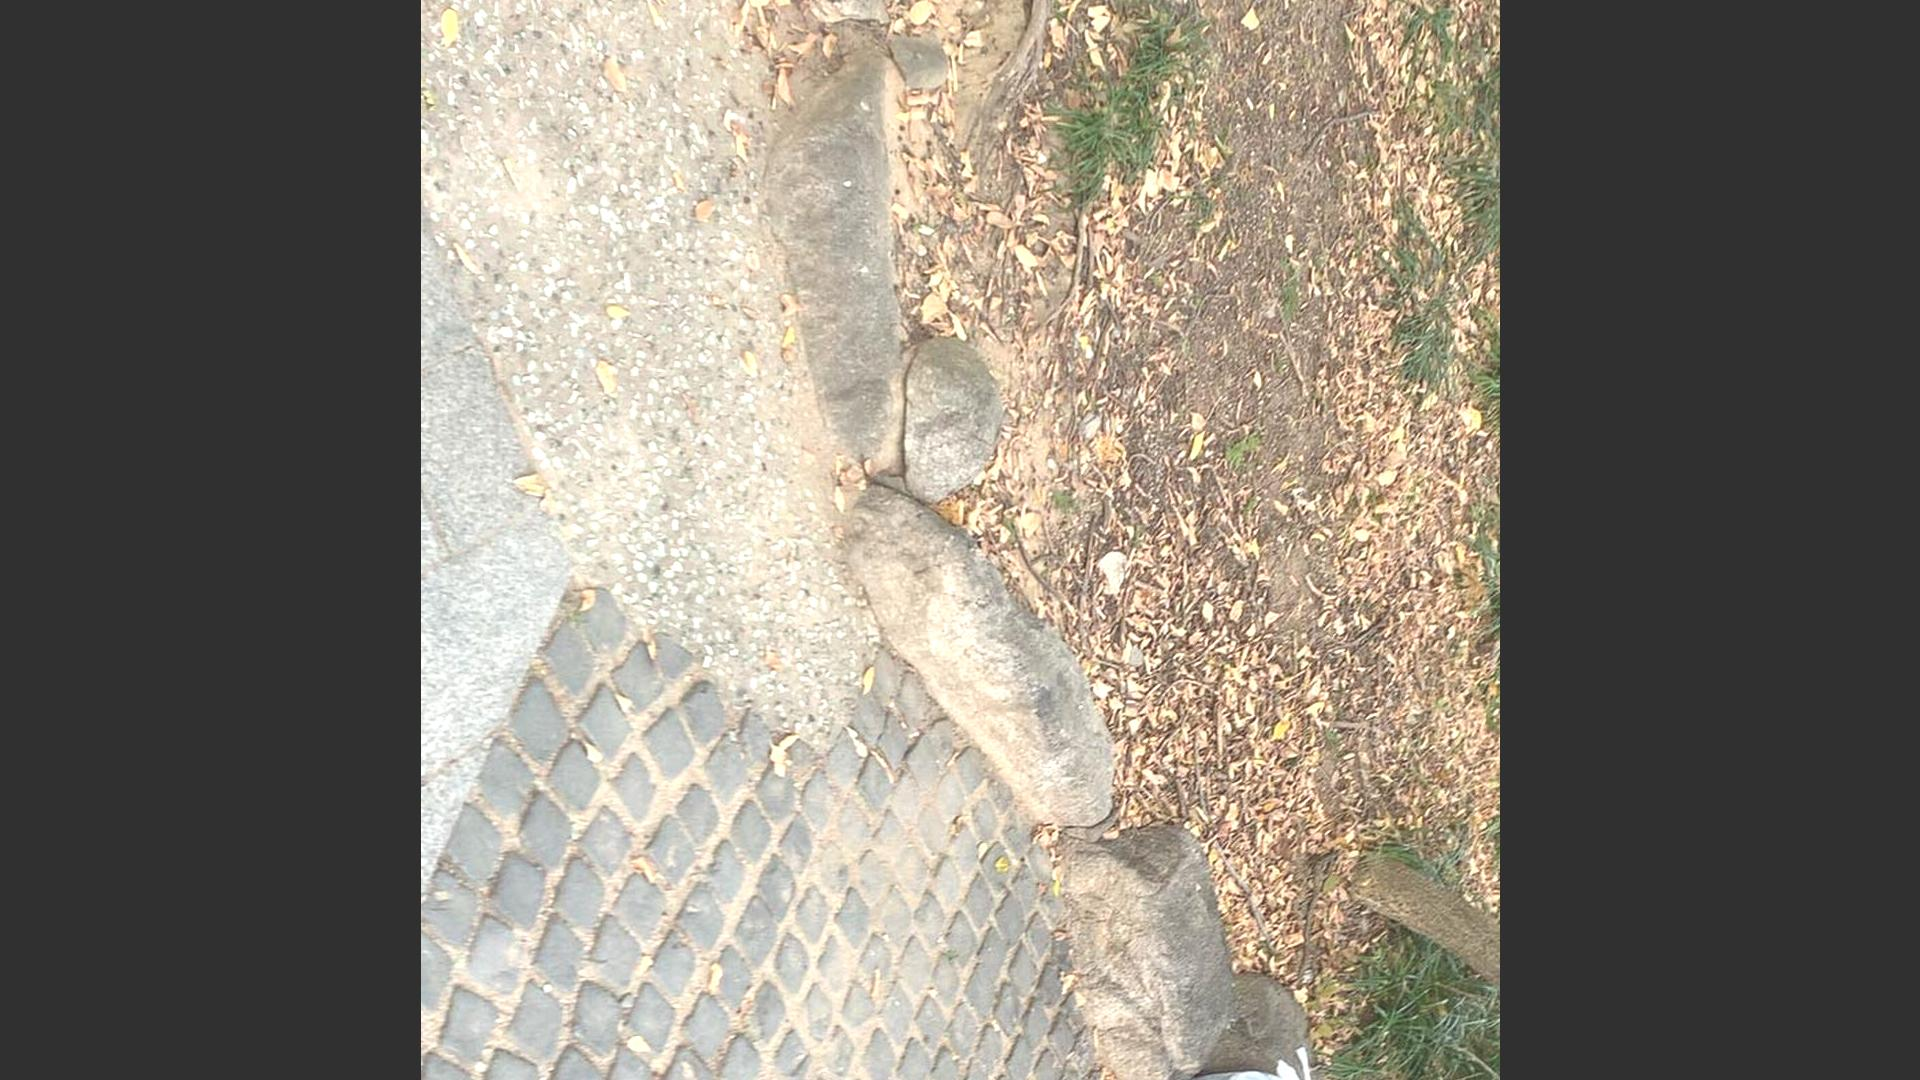white_bag: (1109, 1040, 1329, 1080)
